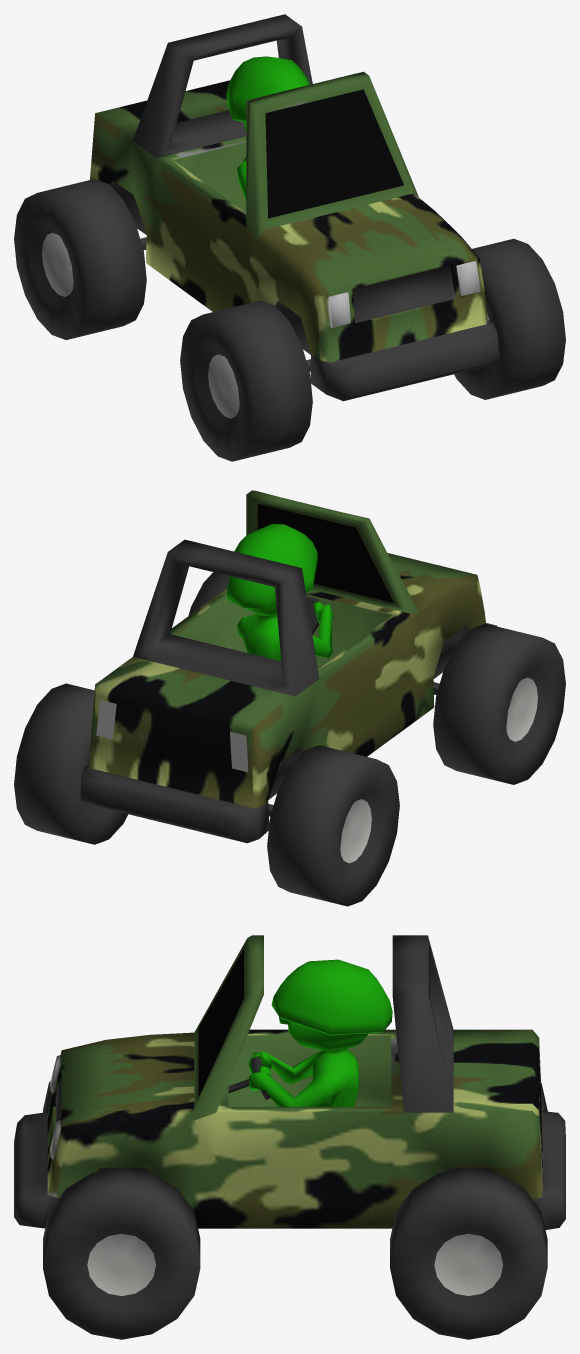
The model's file is jeepNuevo.DAE.
3 views of the same model, one above another, from view 1: azimuth 30°, elevation 25°; view 2: azimuth 150°, elevation 25°; view 3: azimuth 270°, elevation 25° (orthographic). The views are drawn at different scales.
Visible parts, largest first — view 1: jeep; view 2: jeep; view 3: jeep.
Part boxes in pixels (box(x1,y1,x2,y2)): jeep: box(14, 14, 565, 461); jeep: box(14, 490, 565, 906); jeep: box(14, 935, 565, 1339).
Bounding box in the file's own units: 2.03 × 2.99 × 1.77.
Materials: 1 (1 with a texture image).
